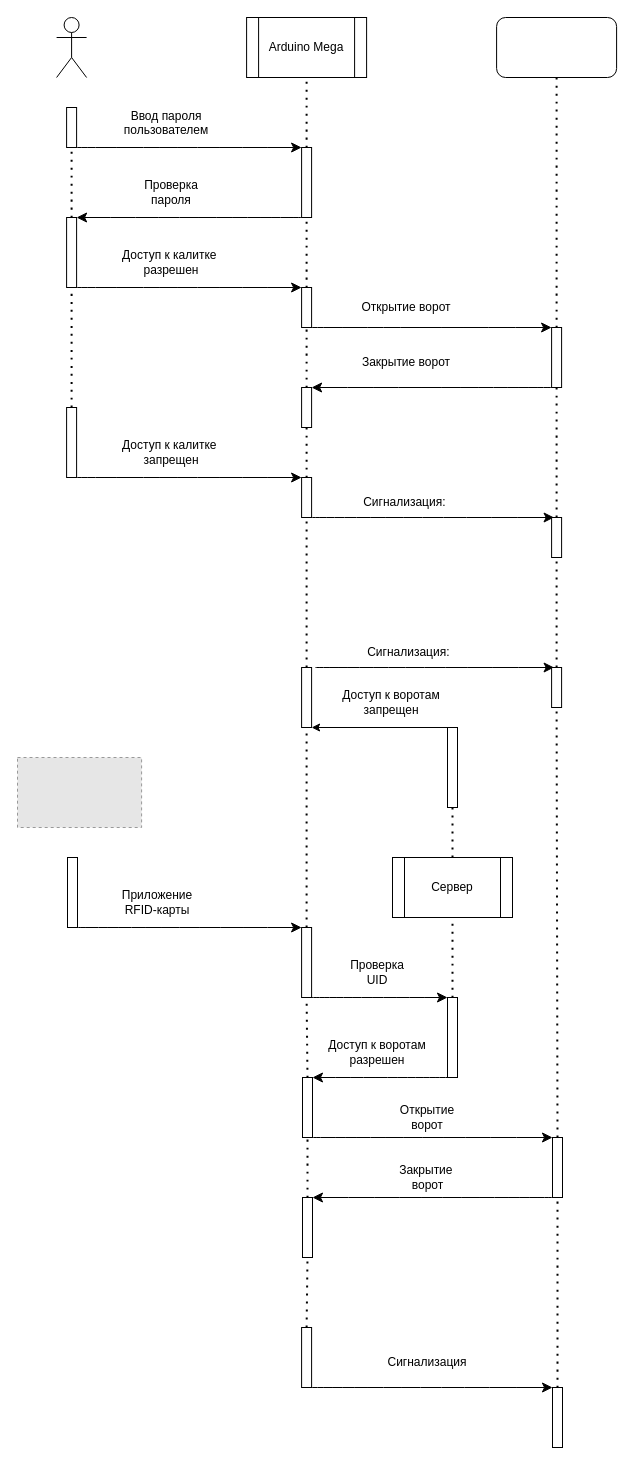
Some shapes in this 635 by 1465 pixel diagram are drawn without their labels. Grey dashed boxes stand in for pictures. The centre of each missing label's shape, as x and y in pixels:
"Пешеход" goes at pixel 71 47.
"Система контроля ворот" goes at pixel 556 47.
